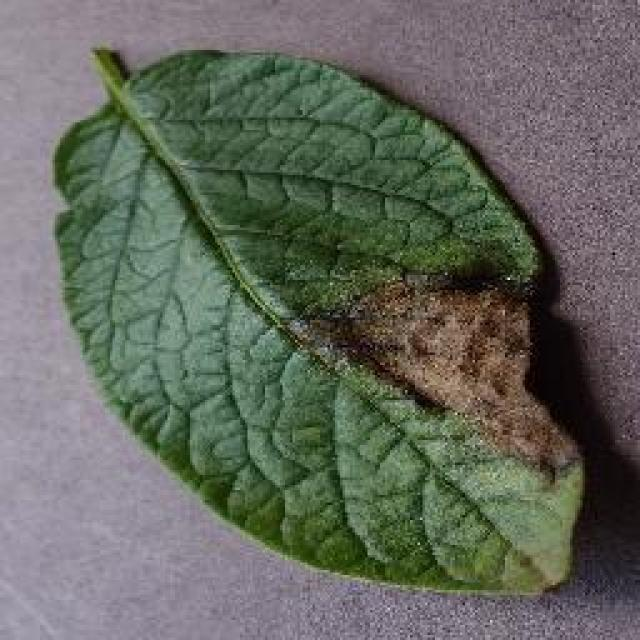Late_blight: (286, 242, 608, 489)
